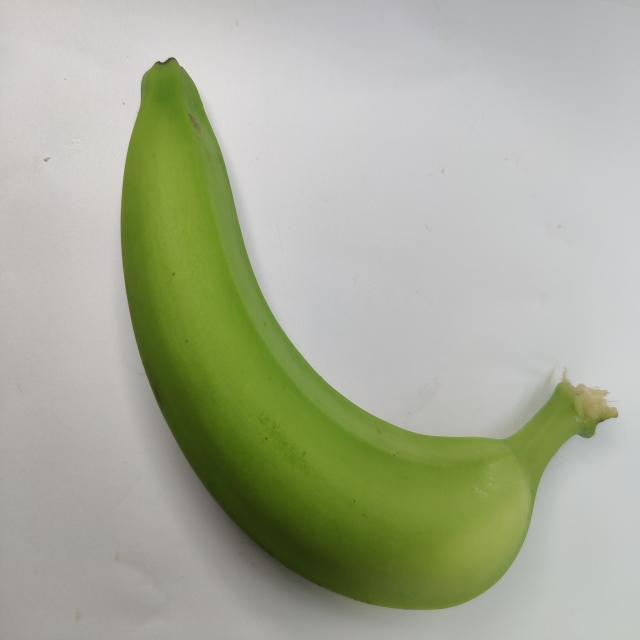raw: (102, 39, 621, 616)
